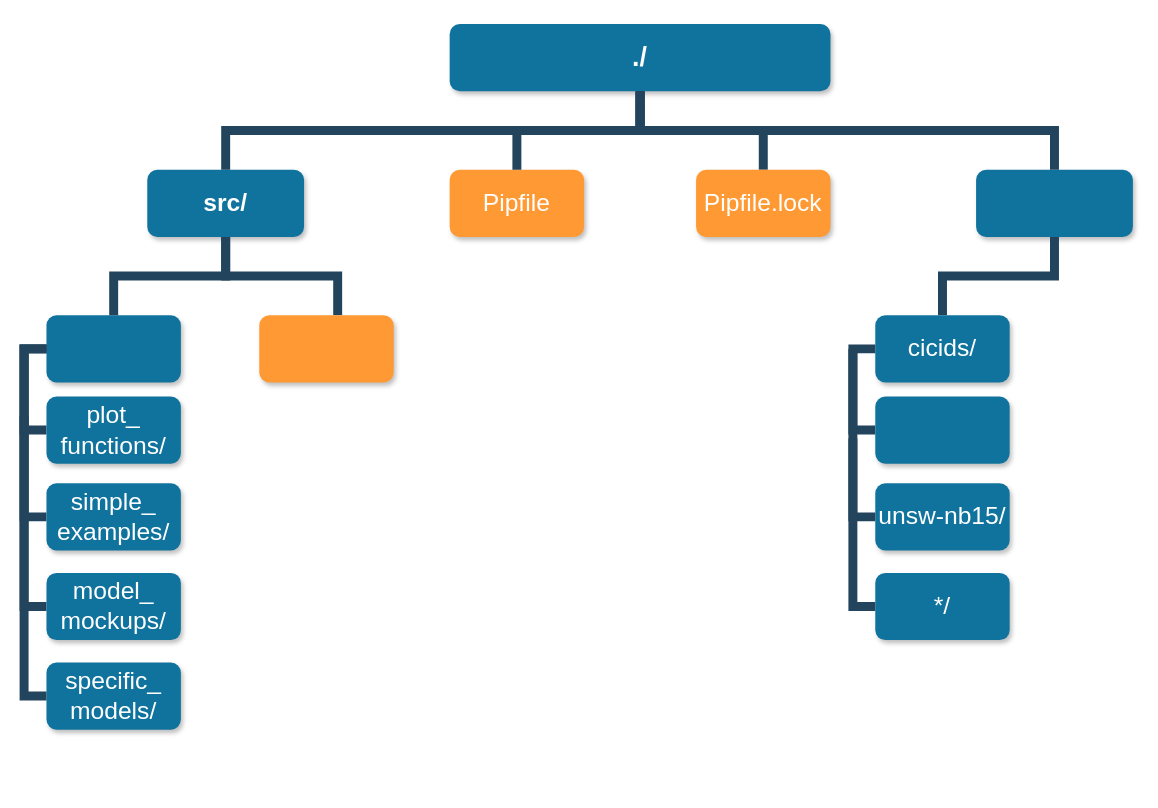
Image size: 1158x808. Some labels were removed from this diagram. The centre of each missing label's shape, as x and y in pixels:
"dataset_ analysis/" belongs at (x=114, y=350).
"datasets/" belongs at (x=1055, y=204).
"download_ datasets.py" belongs at (x=327, y=350).
"nslkdd/" belongs at (x=943, y=431).
